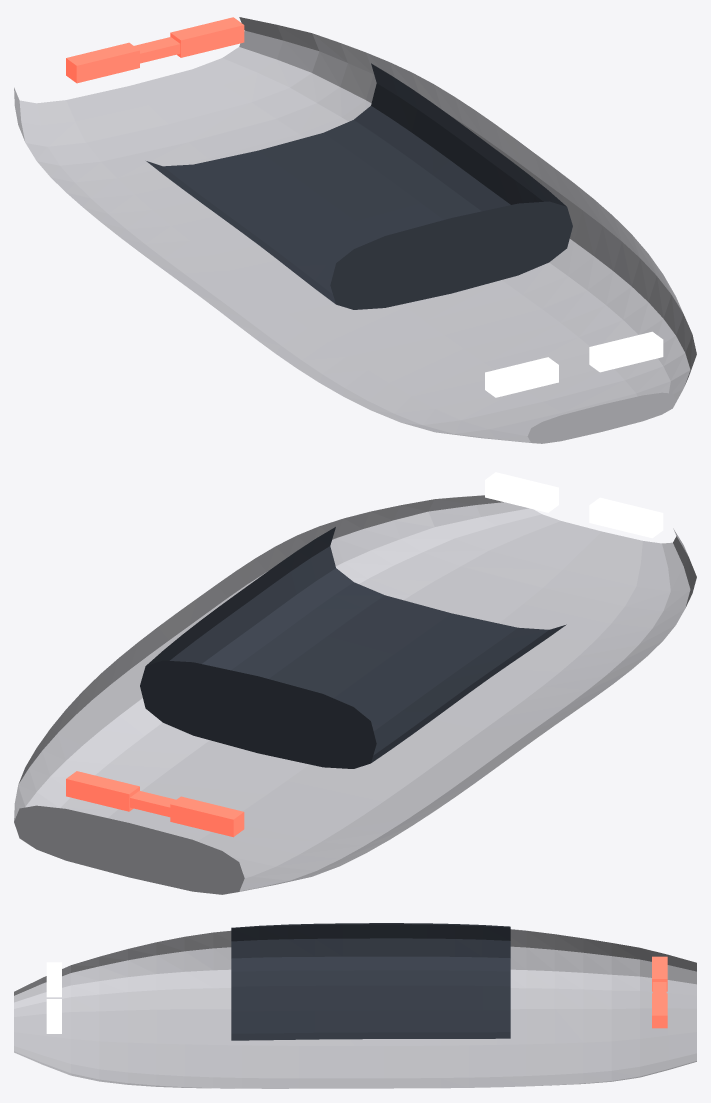
The model's file is roadster-7.glb.
3 views of the same model, one above another, from view 1: azimuth 30°, elevation 25°; view 2: azimuth 150°, elevation 25°; view 3: azimuth 270°, elevation 25° (orthographic). The views are drawn at different scales.
Size of the model in its own units: 1.91 by 0.6702 by 4.4.
